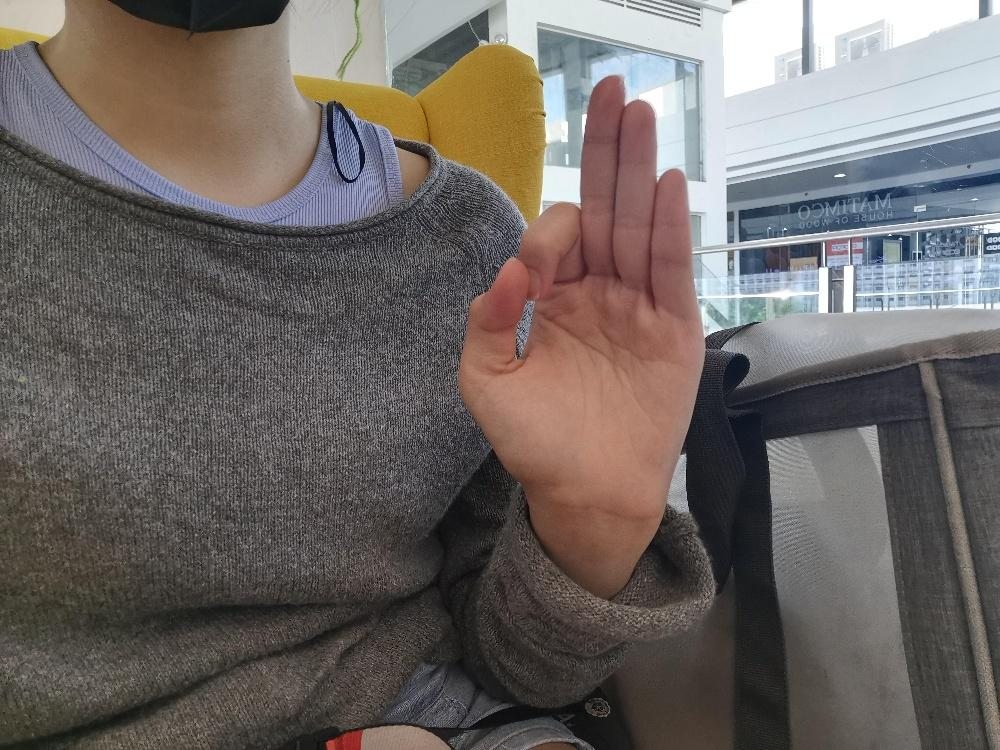f: (455, 70, 707, 518)
